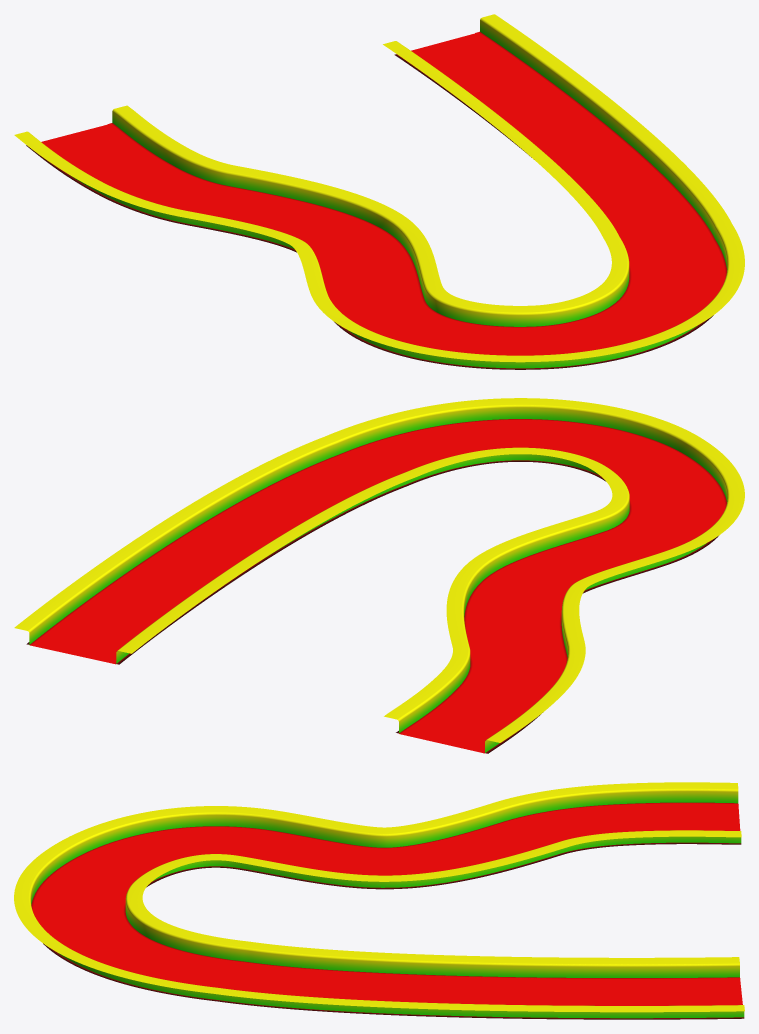
File: Road.fbx
3 views of the same model, one above another, from view 1: azimuth 30°, elevation 25°; view 2: azimuth 150°, elevation 25°; view 3: azimuth 270°, elevation 25° (orthographic). The views are drawn at different scales.
Visible parts, largest first — view 1: SplineMesh; view 2: SplineMesh; view 3: SplineMesh.
Part boxes in pixels (box(x1,y1,x2,y2)): SplineMesh: box(14, 14, 744, 369); SplineMesh: box(14, 398, 744, 753); SplineMesh: box(14, 782, 744, 1019).
Bounding box in the file's own units: 1161 × 31.87 × 1560.
